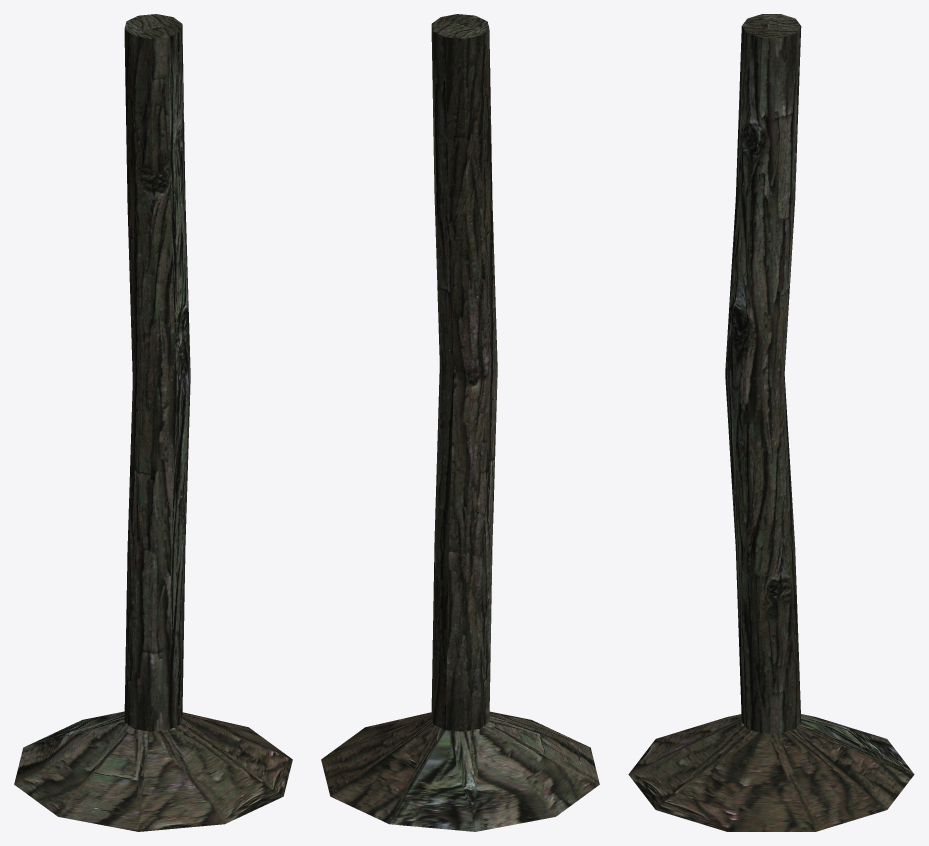
Rendered from Tree2.glb.
3 renders of one model, left to right at view 1: azimuth 30°, elevation 25°; view 2: azimuth 150°, elevation 25°; view 3: azimuth 270°, elevation 25°, orthographic.
Visible parts, largest first — view 1: Cylinder; view 2: Cylinder; view 3: Cylinder.
Boxes of the visible parts, <box> form: Cylinder: <box>14,14,292,831</box>; Cylinder: <box>321,14,599,831</box>; Cylinder: <box>628,14,914,831</box>.
Bounding box in the file's own units: 4.67 × 14.16 × 4.91.
1 material, 1 textured.
